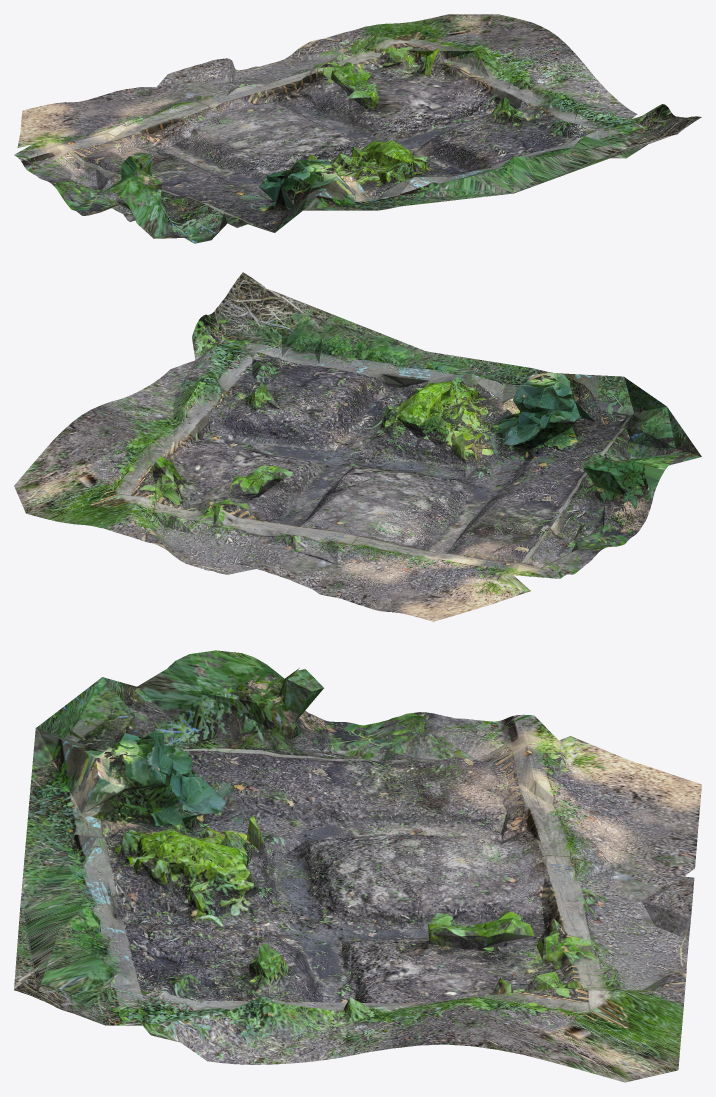
File: garden_2000faces.glb
The picture shows the model from 3 angles, top to bottom: view 1: azimuth 30°, elevation 25°; view 2: azimuth 150°, elevation 25°; view 3: azimuth 270°, elevation 25°; orthographic projection. The views are drawn at different scales.
Bounding box in the file's own units: 37.47 × 5.56 × 30.25.
1 material, 1 textured.
